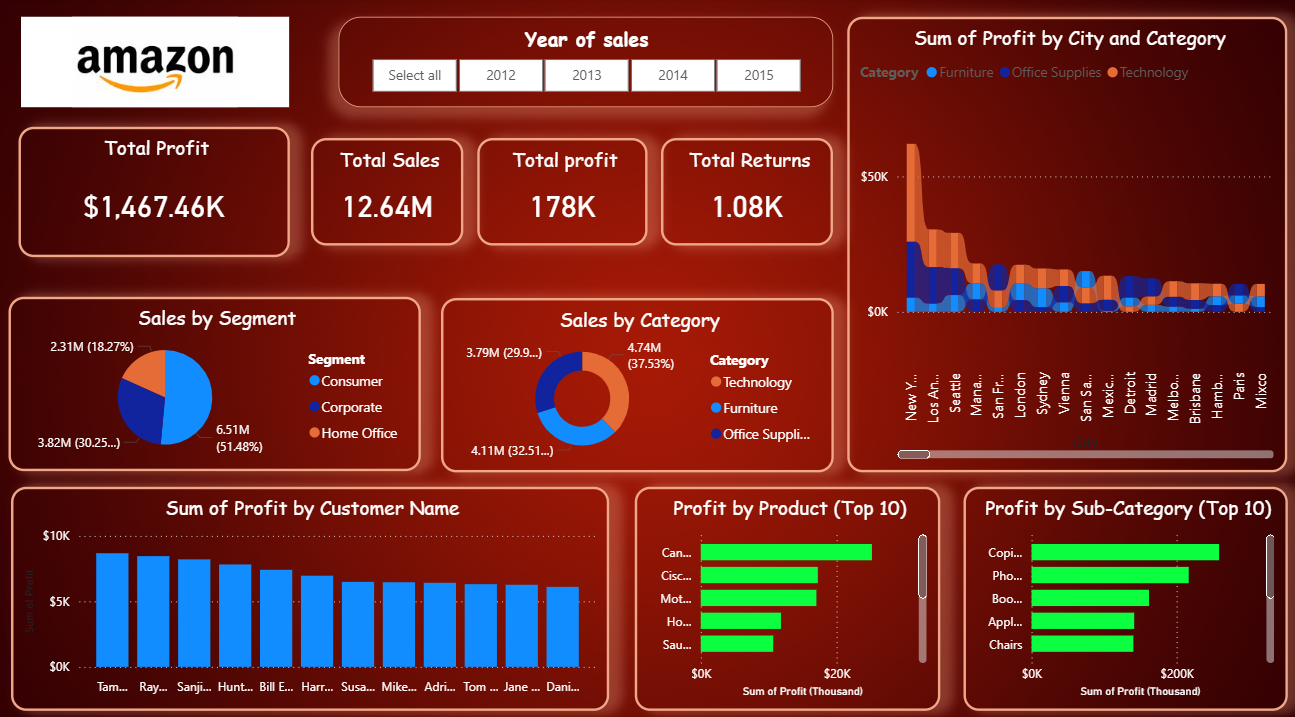

This screenshot's page, from the dashboard's own definition file:
{"tool":"powerbi","page":{"name":"Page 1","canvas":[1280,720],"ordinal":0},"visuals":[{"type":"image","box":[24.7,17.8,263.5,89.2],"z":0},{"type":"slicer","title":"Year of sales","fields":{"Values":["Orders.Order Date.Variation.Date Hierarchy.Year"]},"box":[336.2,17.8,485.8,89.2],"z":1000},{"type":"card","title":"Total Profit","fields":{"Values":["Sum(Orders.Profit)"]},"box":[22,126.2,266.2,127.6],"z":2000},{"type":"card","title":"Total Sales","fields":{"Values":["Sum(Orders.Sales)"]},"box":[308.7,137.2,149.6,105.7],"z":3000},{"type":"card","title":"Total Returns","fields":{"Values":["CountNonNull(Returns.Column1)"]},"box":[653.2,137.2,168.8,105.7],"z":4000},{"type":"card","title":"Total profit","fields":{"Values":["Sum(Orders.Quantity)"]},"box":[472,137.2,167.4,105.7],"z":5000},{"type":"pieChart","title":"Sales by Segment","fields":{"Y":["Sum(Orders.Sales)"],"Category":["Orders.Segment"]},"box":[12.3,293.7,404.8,171.5],"z":6000},{"type":"donutChart","title":"Sales by Category","fields":{"Y":["Sum(Orders.Sales)"],"Category":["Orders.Category"]},"box":[436.4,295,385.6,171.5],"z":7000},{"type":"ribbonChart","fields":{"Category":["Orders.City"],"Y":["Sum(Orders.Profit)"],"Series":["Orders.Category"]},"box":[835.7,17.8,432.2,447.3],"z":8000},{"type":"columnChart","fields":{"Category":["Orders.Customer Name"],"Y":["Sum(Orders.Profit)"]},"box":[14.3,480,587.1,220],"z":9000},{"type":"barChart","title":"Profit by Product (Top 10)","fields":{"Category":["Orders.Product Name"],"Y":["Sum(Orders.Profit)"]},"box":[627.1,480,300,220],"z":10000},{"type":"barChart","title":"Profit by Sub-Category (Top 10)","fields":{"Category":["Orders.Sub-Category"],"Y":["Sum(Orders.Profit)"]},"box":[950,480,318.6,220],"z":11000}]}

Visuals, with their boxes in screenshot pixels (x1, y1, x2, y2), scaled from the page's 1280x720 canvas onto the 1295x717 screenshot:
image: 25 18 292 107
"Year of sales" slicer: 340 18 832 107
"Total Profit" card: 22 126 292 253
"Total Sales" card: 312 137 464 242
"Total Returns" card: 661 137 832 242
"Total profit" card: 478 137 647 242
"Sales by Segment" pieChart: 12 292 422 463
"Sales by Category" donutChart: 442 294 832 465
ribbonChart - Orders.City x Sum(Orders.Profit): 845 18 1283 463
columnChart - Orders.Customer Name x Sum(Orders.Profit): 14 478 608 697
"Profit by Product (Top 10)" barChart: 634 478 938 697
"Profit by Sub-Category (Top 10)" barChart: 961 478 1283 697
